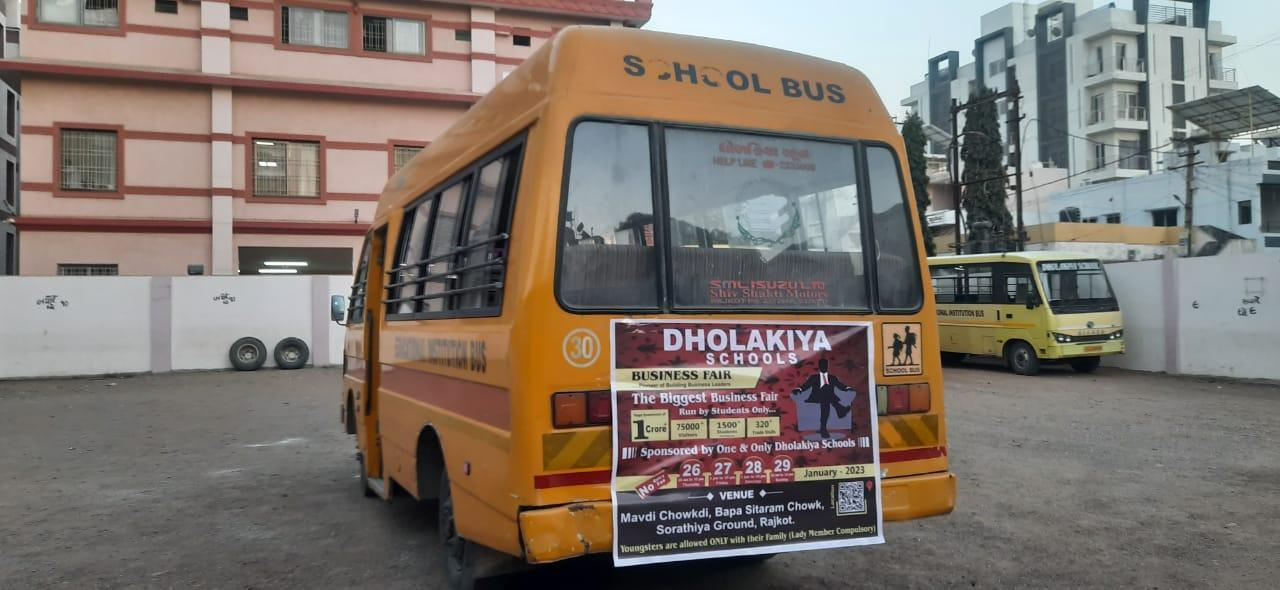Bus: (333, 30, 977, 568), (942, 234, 1138, 382)
